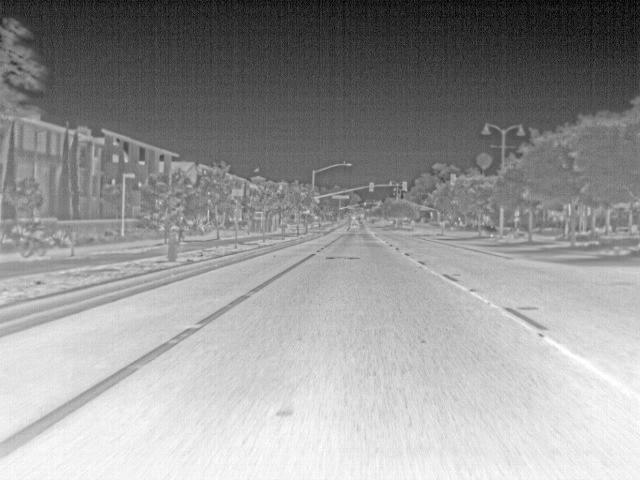car: (482, 223, 501, 237), (514, 227, 528, 240), (350, 218, 362, 230)
person: (33, 216, 45, 238), (178, 214, 187, 239)
